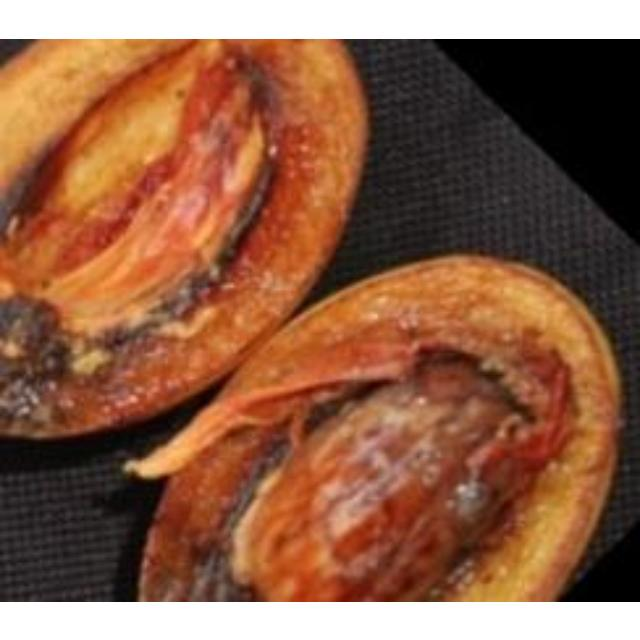damaged: (121, 253, 622, 599), (0, 38, 370, 442)
